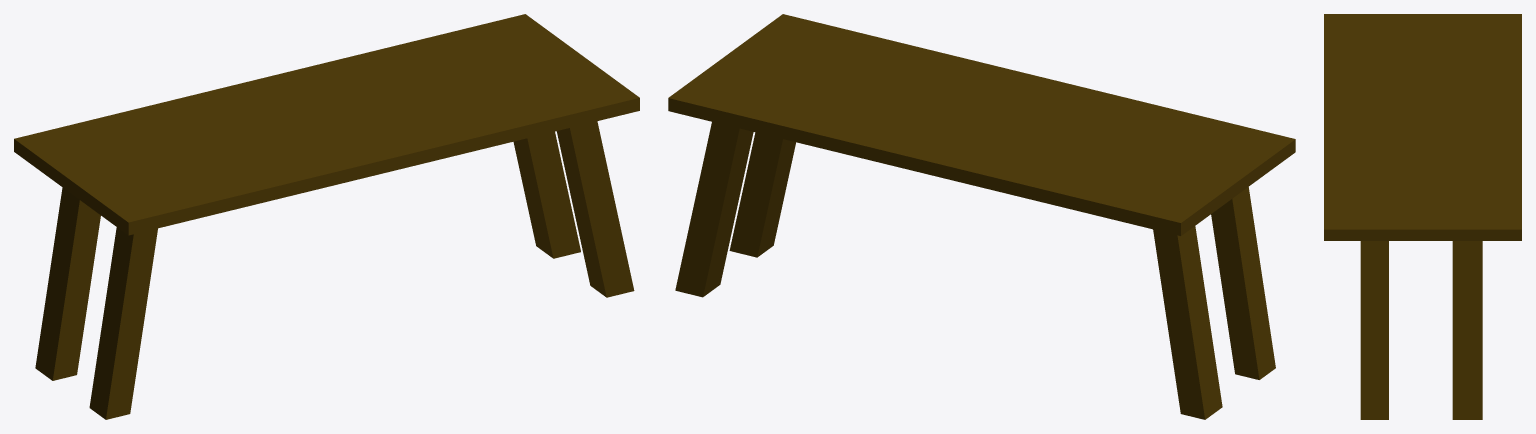
Rendered from desk.fbx.
The picture shows the model from 3 angles, left to right: view 1: azimuth 30°, elevation 25°; view 2: azimuth 150°, elevation 25°; view 3: azimuth 270°, elevation 25°; orthographic projection. The views are drawn at different scales.
Visible parts, largest first — view 1: desk; view 2: desk; view 3: desk.
Boxes of the visible parts, x1,y1,x2,y2 form: desk: (14,14,639,419); desk: (668,14,1295,419); desk: (1324,14,1521,419).
Bounding box in the file's own units: 7.06 × 2.71 × 2.65.
